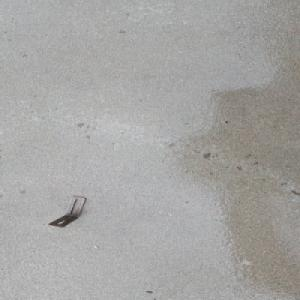MetalPart: (47, 195, 87, 227)
